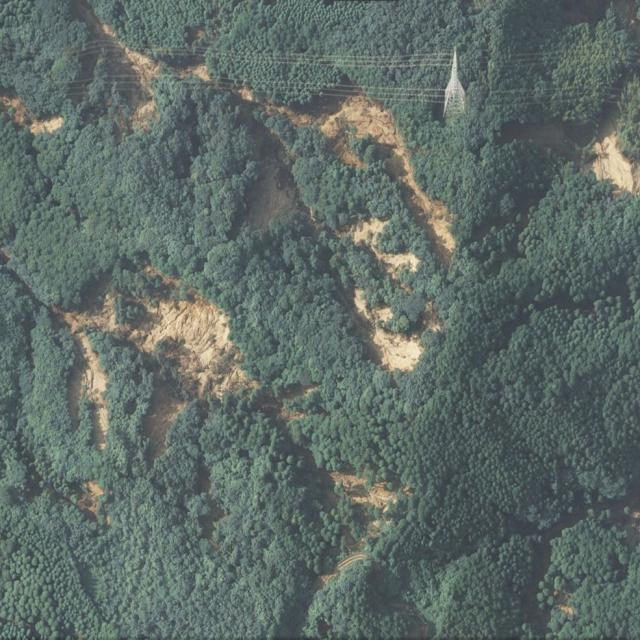landslide: (51, 265, 257, 462), (267, 93, 456, 266), (333, 208, 441, 373), (320, 472, 398, 586)
